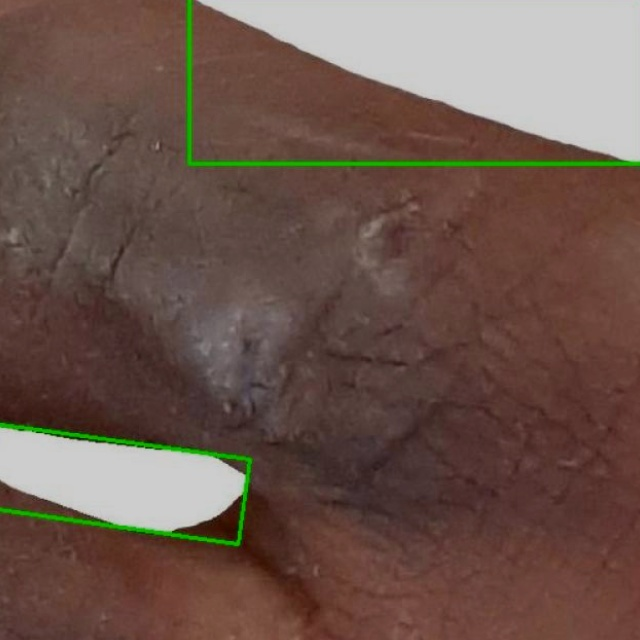Contact Dermatitis: (189, 0, 639, 163), (0, 423, 251, 545)
